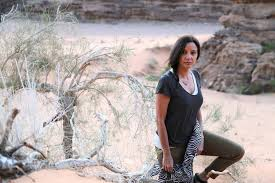middle_eastern_Female: (175, 35, 200, 70)
